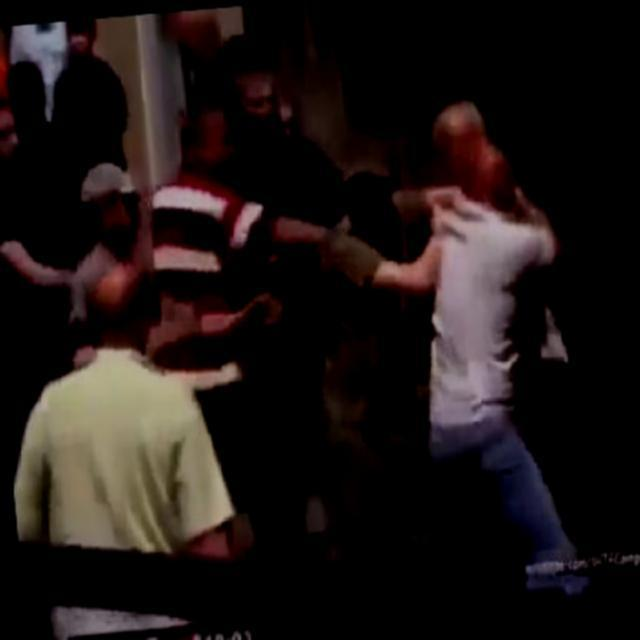fight: (394, 93, 574, 410)
non-fight: (7, 262, 233, 560)
